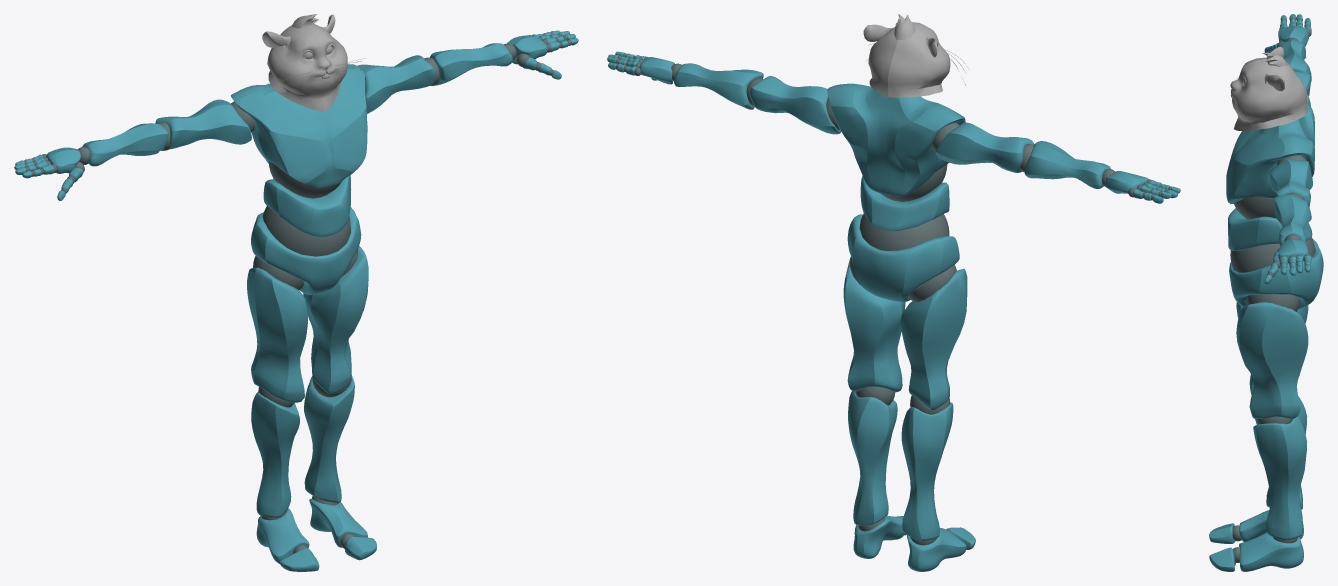
File: HamsterTestModel.fbx
The picture shows the model from 3 angles, left to right: view 1: azimuth 30°, elevation 25°; view 2: azimuth 150°, elevation 25°; view 3: azimuth 270°, elevation 25°; orthographic projection. The views are drawn at different scales.
Visible parts, largest first — view 1: hamstermodel; view 2: hamstermodel; view 3: hamstermodel.
Part boxes in pixels (x1,y1,x2,y2): hamstermodel: (14,14,578,571); hamstermodel: (607,14,1180,571); hamstermodel: (1209,14,1323,571).
Bounding box in the file's own units: 195 × 176 × 36.43.
